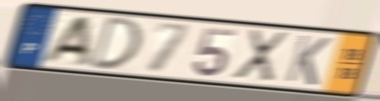5: (192, 25, 240, 78)
7: (145, 21, 191, 75)
A: (38, 15, 93, 66)
D: (87, 14, 144, 71)
K: (282, 33, 333, 88)
X: (229, 27, 290, 86)
